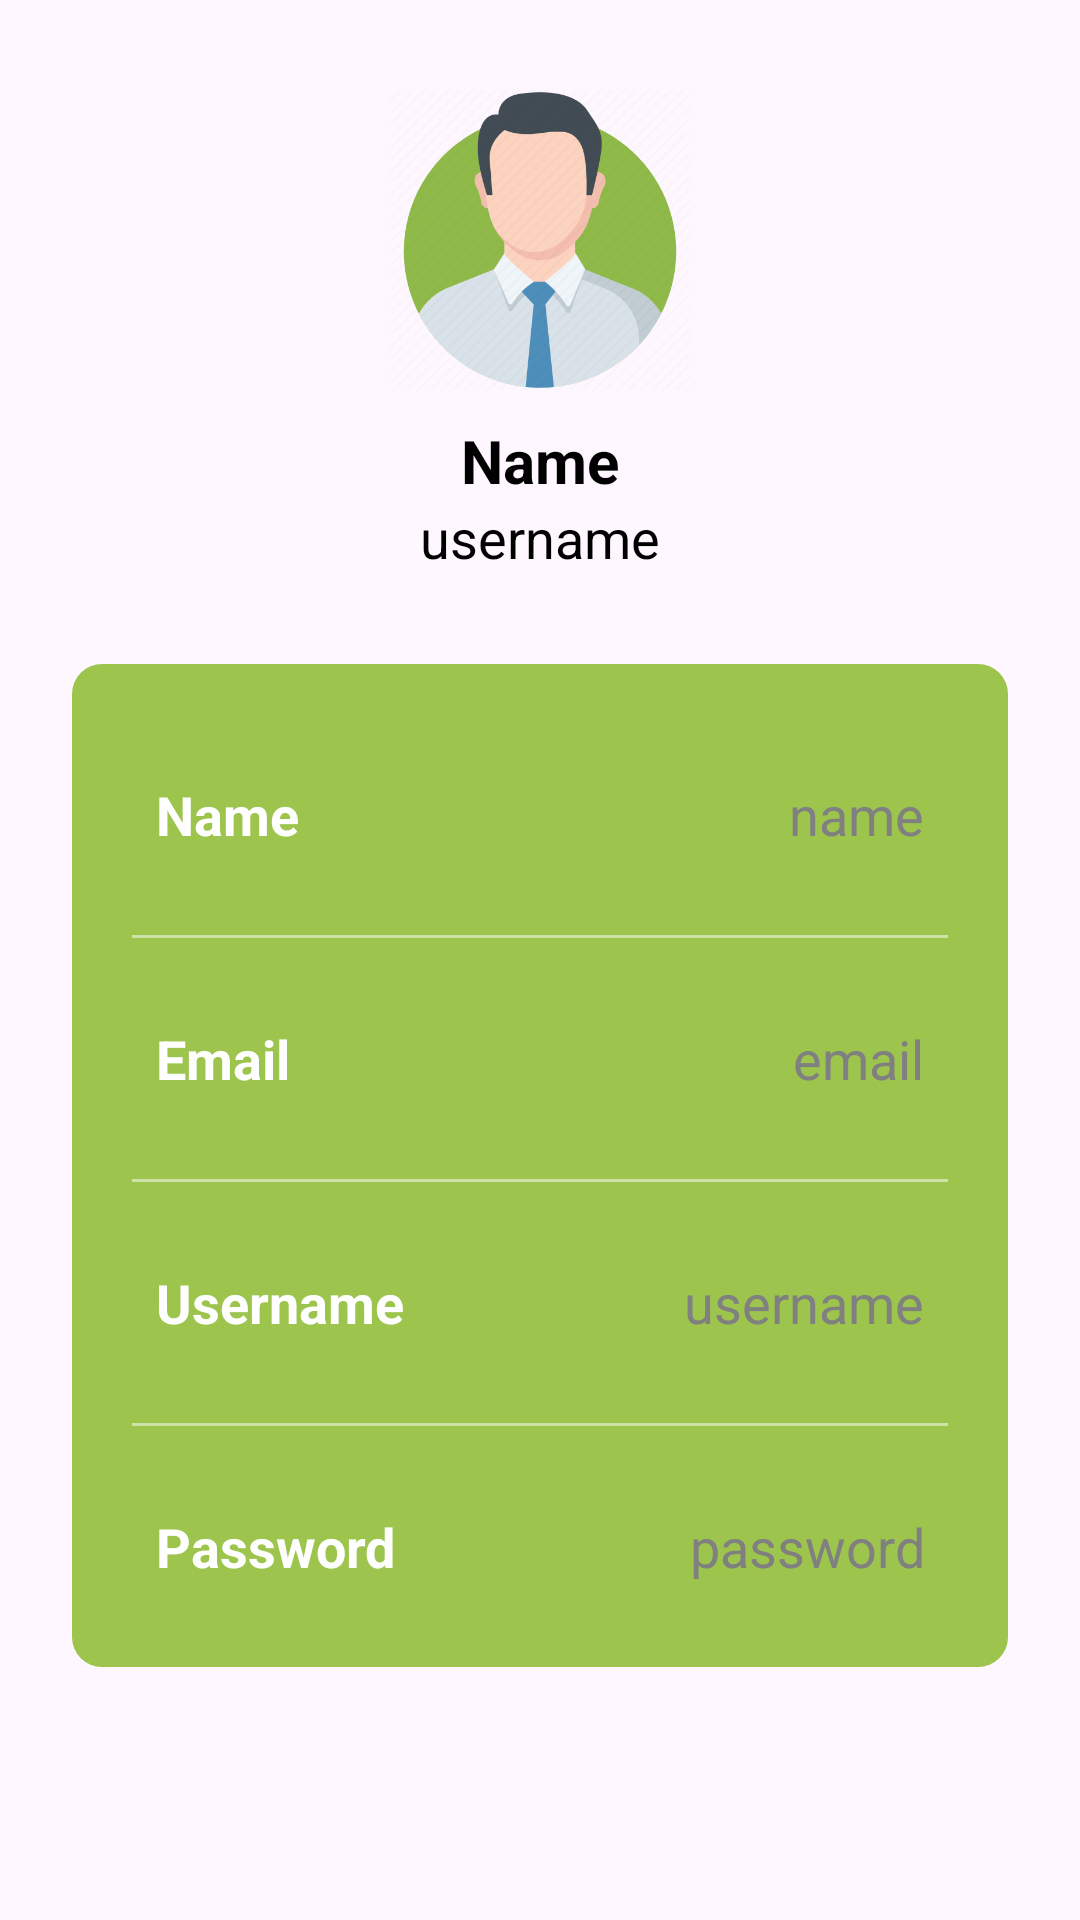

Named icons in this screenshot (1080×1920) and their bounding boxes, (x1, y1, x2, y2):
profile admin: (403, 92, 677, 388)
